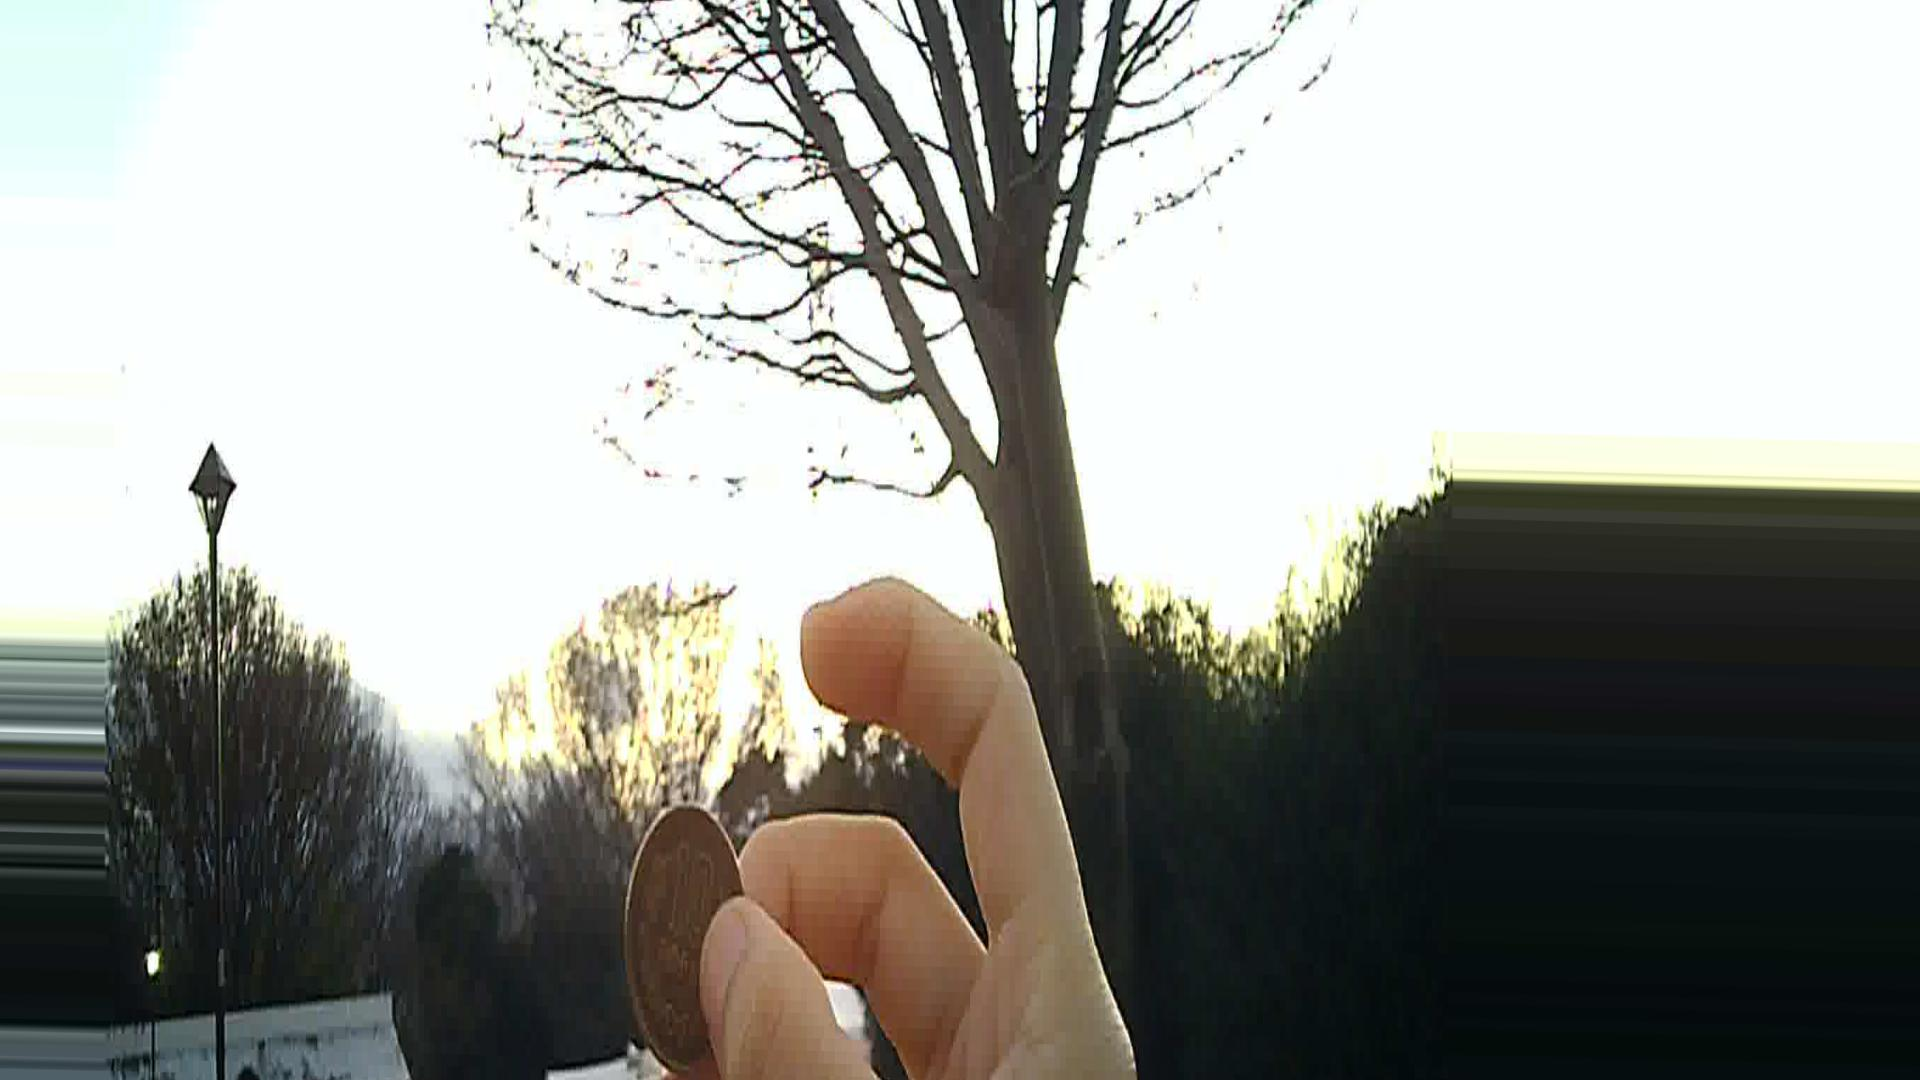10 Yen: (617, 800, 752, 1065)
